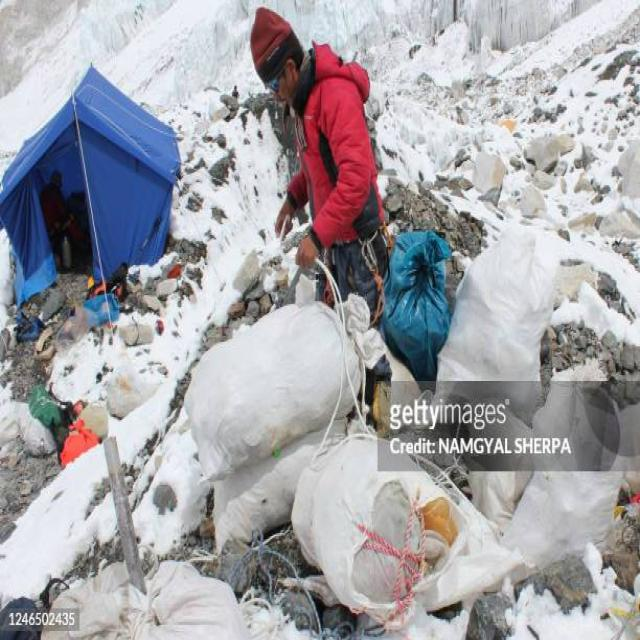trash: (134, 192, 572, 588), (393, 65, 572, 191)
